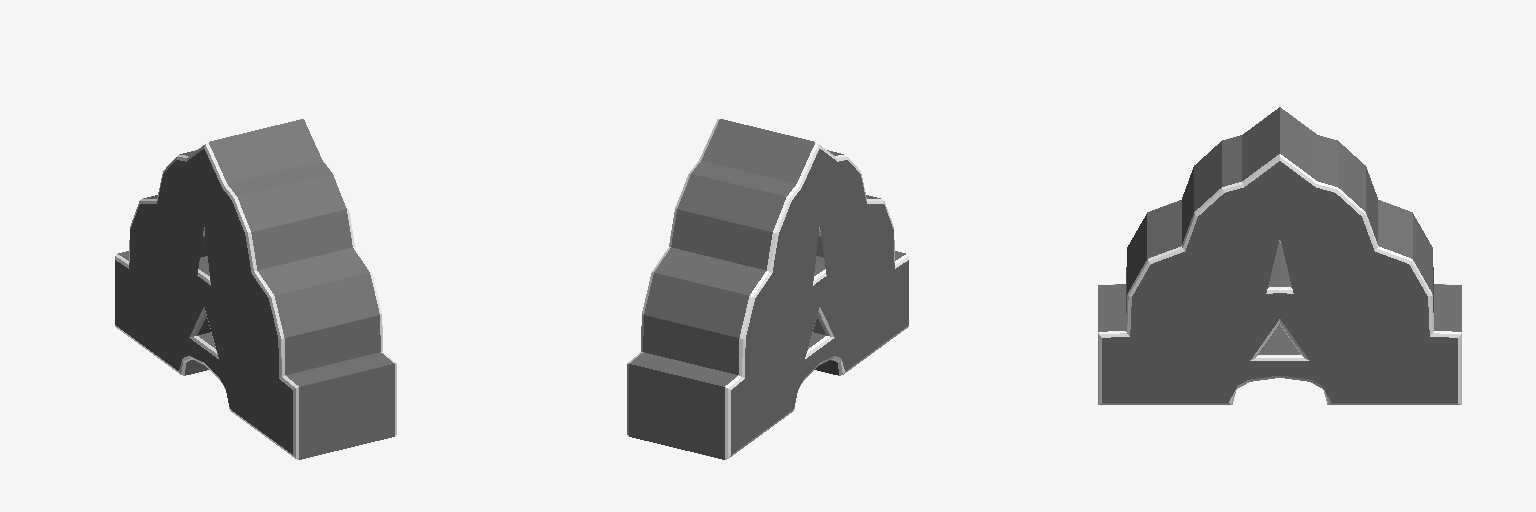
Rendered from bam.obj.
The picture shows the model from 3 angles: view 1: azimuth 30°, elevation 25°; view 2: azimuth 150°, elevation 25°; view 3: azimuth 270°, elevation 25°; orthographic projection.
Visible parts, largest first — view 1: Plane; view 2: Plane; view 3: Plane.
Part boxes in pixels (x1,y1,x2,y2): Plane: (115, 119, 396, 459); Plane: (627, 119, 908, 459); Plane: (1098, 107, 1461, 404).
Bounding box in the file's own units: 0.6562 × 1.52 × 2.